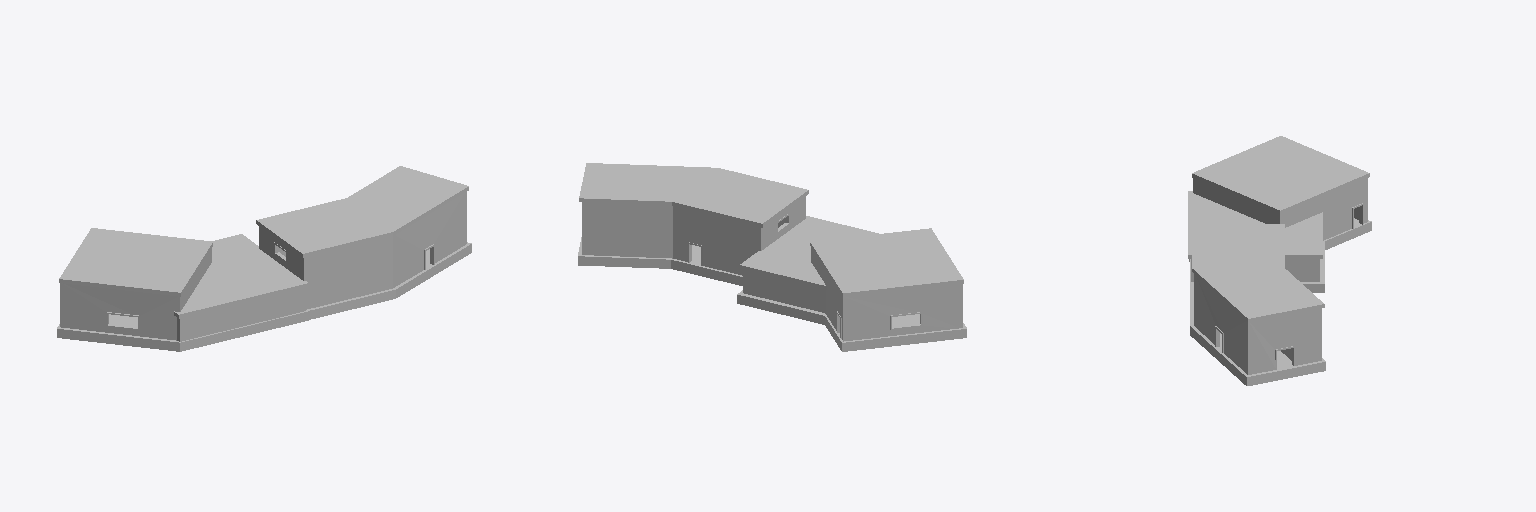
File: Observatory_House_02_LOD1.obj
3 renders of one model, left to right at view 1: azimuth 30°, elevation 25°; view 2: azimuth 150°, elevation 25°; view 3: azimuth 270°, elevation 25°, orthographic.
Parts seen in each view (by area): view 1: Observatory_House_02_LOD1_0, Observatory_House_02_LOD1_1; view 2: Observatory_House_02_LOD1_0, Observatory_House_02_LOD1_1; view 3: Observatory_House_02_LOD1_0, Observatory_House_02_LOD1_1.
Boxes of the visible parts, x1=… form: Observatory_House_02_LOD1_0: x1=57, y1=166, x2=471, y2=351; Observatory_House_02_LOD1_1: x1=106, y1=242, x2=434, y2=330; Observatory_House_02_LOD1_0: x1=578, y1=163, x2=966, y2=351; Observatory_House_02_LOD1_1: x1=688, y1=213, x2=922, y2=338; Observatory_House_02_LOD1_0: x1=1188, y1=136, x2=1371, y2=385; Observatory_House_02_LOD1_1: x1=1215, y1=203, x2=1363, y2=369.
Size of the model in its own units: 44.23 by 7.06 by 17.64.